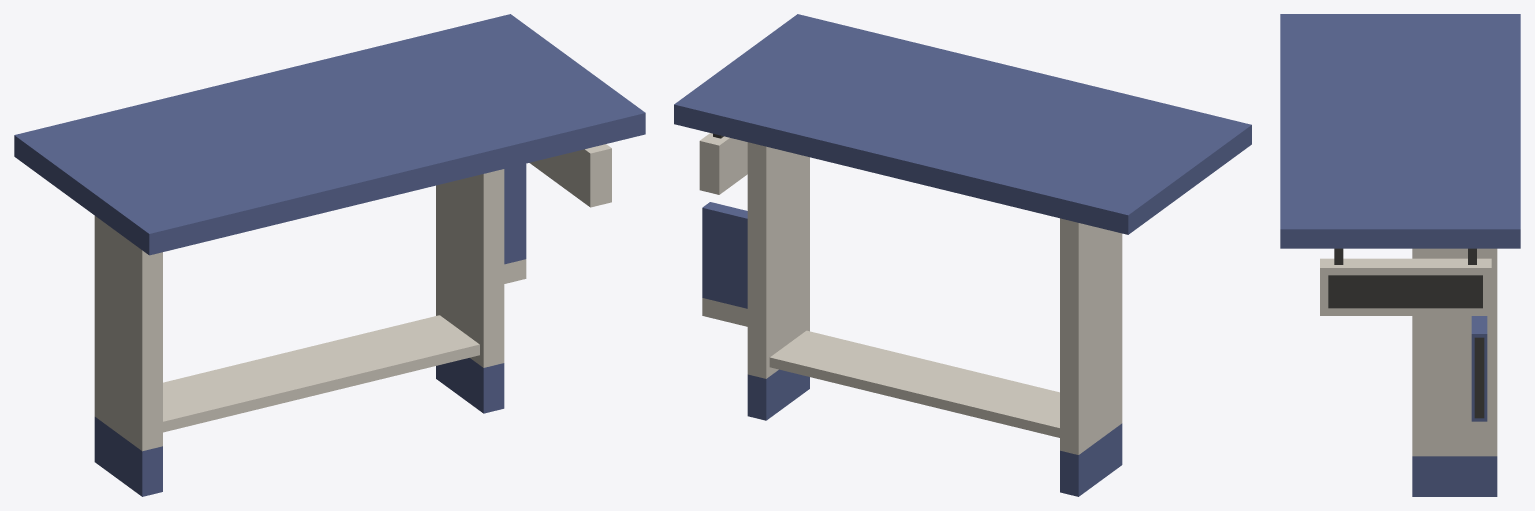
Rendered from Tram_Stop_2.fbx.
The picture shows the model from 3 angles, left to right: view 1: azimuth 30°, elevation 25°; view 2: azimuth 150°, elevation 25°; view 3: azimuth 270°, elevation 25°; orthographic projection. The views are drawn at different scales.
Parts seen in each view (by area): view 1: Tram_Stop_2; view 2: Tram_Stop_2; view 3: Tram_Stop_2.
Boxes of the visible parts, left/top/right/bottom form: Tram_Stop_2: left=14, top=14, right=645, bottom=496; Tram_Stop_2: left=674, top=14, right=1251, bottom=496; Tram_Stop_2: left=1280, top=14, right=1520, bottom=496.
Bounding box in the file's own units: 6.11 × 3.92 × 2.88.
1 material, 1 textured.
